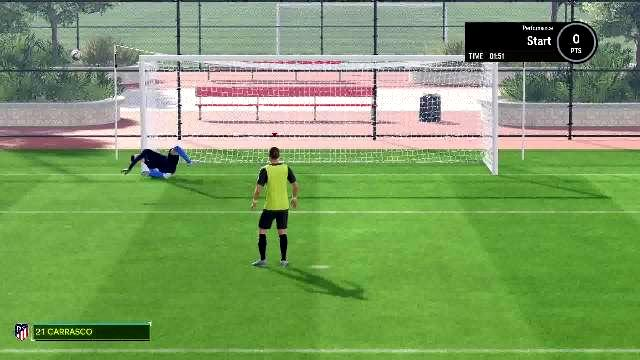bottom-left: (150, 124, 258, 174)
bottom-right: (375, 124, 491, 174)
center-down: (260, 124, 374, 174)
center-up: (260, 63, 374, 123)
football: (67, 49, 85, 63)
goalkeeper: (122, 142, 200, 182)
player: (241, 149, 305, 267)
top-left: (149, 62, 257, 122)
top-right: (376, 64, 492, 122)
